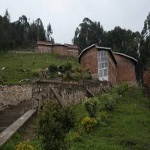House: (79, 43, 142, 87)
River: (3, 80, 87, 133)
Uncultivated: (82, 95, 150, 148), (5, 50, 77, 80)
